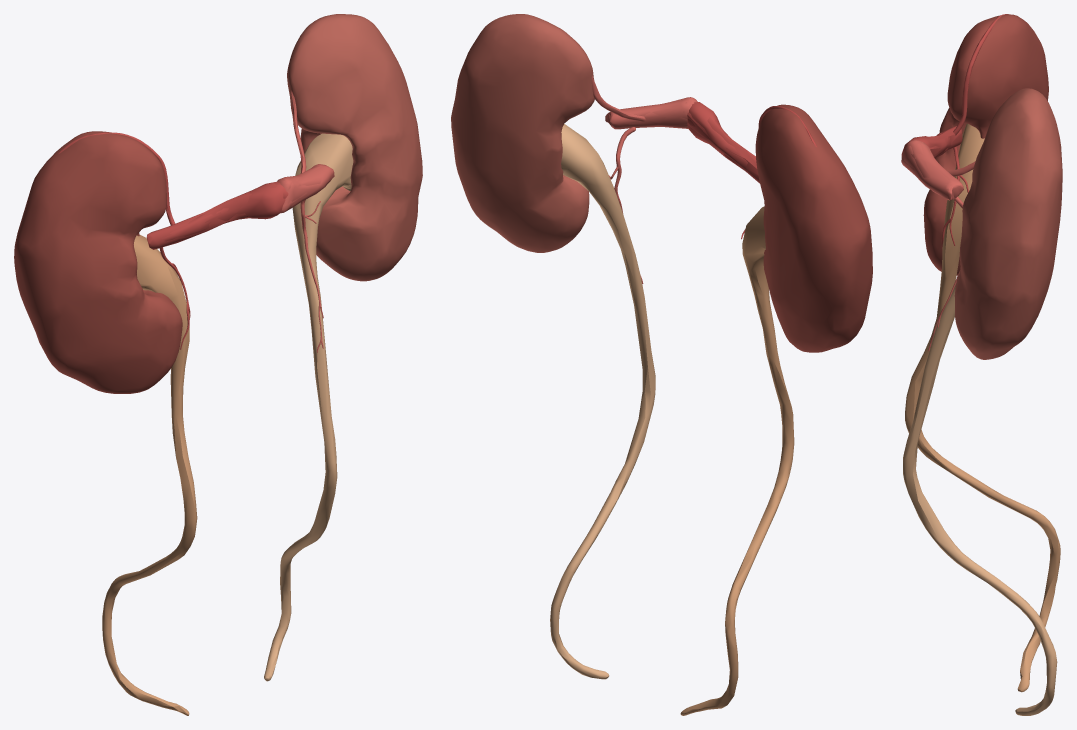
The model's file is kidneys.glb.
3 views of the same model, side by side, from view 1: azimuth 30°, elevation 25°; view 2: azimuth 150°, elevation 25°; view 3: azimuth 270°, elevation 25° (orthographic).
Visible parts, largest first — view 1: right-kidney, left-kidney, left-ureter, right-ureter, right-renal-artery, left-renal-artery; view 2: left-kidney, right-kidney, left-ureter, right-ureter, left-renal-artery, right-renal-artery; view 3: left-kidney, right-kidney, right-ureter, left-ureter, left-renal-artery, right-renal-artery.
Boxes of the visible parts, <box> form: right-kidney: <box>14,131,182,393</box>; left-kidney: <box>287,14,422,281</box>; left-ureter: <box>264,133,353,681</box>; right-ureter: <box>102,234,197,715</box>; right-renal-artery: <box>58,132,288,349</box>; left-renal-artery: <box>277,90,334,352</box>; left-kidney: <box>451,14,594,252</box>; right-kidney: <box>755,104,872,352</box>; left-ureter: <box>550,124,655,679</box>; right-ureter: <box>680,206,794,715</box>; left-renal-artery: <box>591,75,697,283</box>; right-renal-artery: <box>687,102,817,239</box>; left-kidney: <box>954,88,1062,359</box>; right-kidney: <box>923,14,1048,275</box>; right-ureter: <box>905,123,1060,692</box>; left-ureter: <box>903,284,1057,715</box>; left-renal-artery: <box>901,140,975,351</box>; right-renal-artery: <box>901,14,1010,250</box>.
Size of the model in its own units: 4.45 by 6.98 by 1.52.
